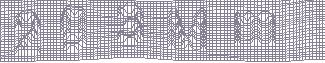2: (13, 9, 42, 58)
3: (114, 1, 146, 46)
9: (59, 4, 88, 54)
M: (165, 7, 207, 52)
m: (232, 8, 277, 48)
